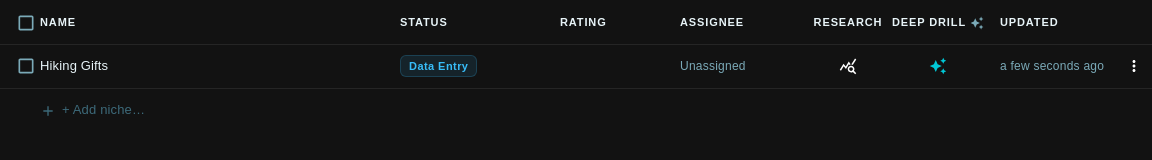
NicheTable › shows archive option in context menu after clicking ⋮ button
Click the button named "actions".
click(1134, 66)  # box [1120,52,1148,80]
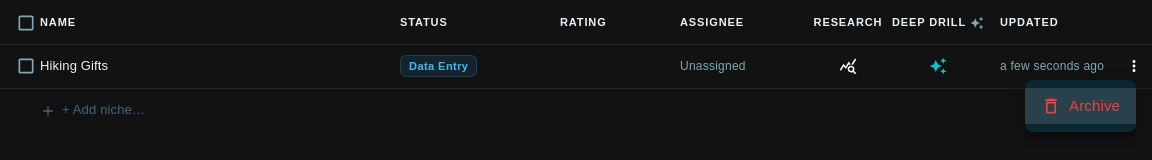
expect the menu item "Archive" is shown: met, box [1025,88,1136,124]
